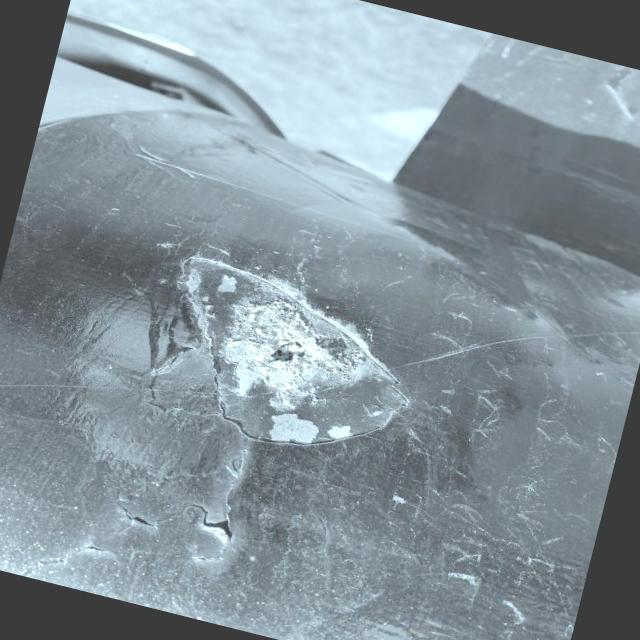crack: (2, 512, 118, 582), (170, 486, 253, 557), (85, 486, 161, 538)
dent: (95, 216, 443, 492)
